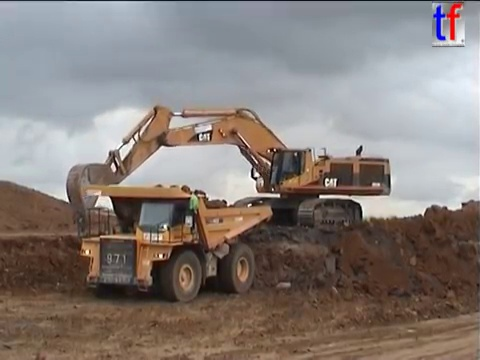excavator: (63, 103, 394, 235)
truck: (74, 182, 274, 304), (459, 199, 480, 221)
worker: (186, 187, 205, 234)
